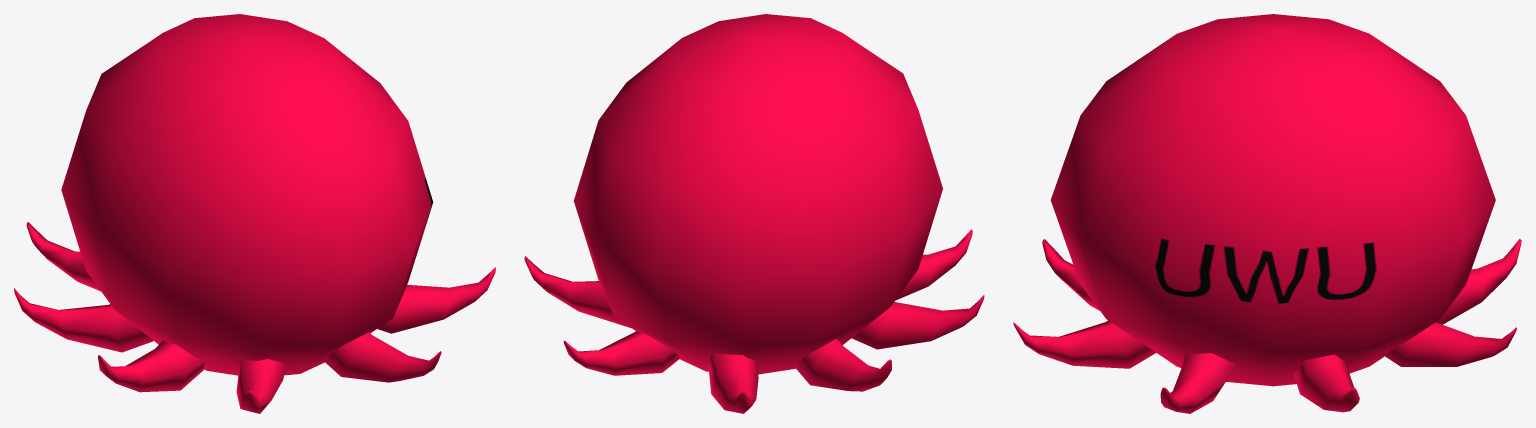
The model's file is Octopus Blob UWU RED.fbx.
3 views of the same model, side by side, from view 1: azimuth 30°, elevation 25°; view 2: azimuth 150°, elevation 25°; view 3: azimuth 270°, elevation 25° (orthographic). The views are drawn at different scales.
Visible parts, largest first — view 1: Cylinder006; view 2: Cylinder006; view 3: Cylinder006.
Boxes of the visible parts, <box> form: Cylinder006: <box>14,14,495,413</box>; Cylinder006: <box>524,14,984,413</box>; Cylinder006: <box>1013,14,1521,413</box>.
Bounding box in the file's own units: 17.84 × 13.75 × 19.36.
1 material, 1 textured.
